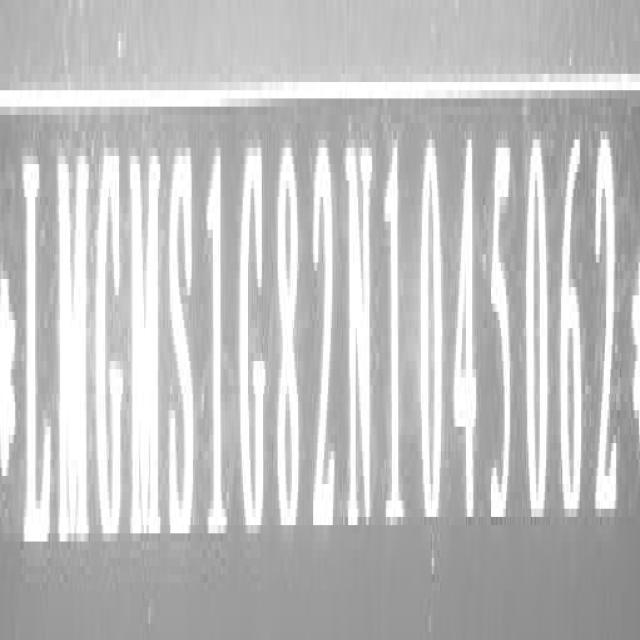0: (415, 124, 446, 546), (521, 130, 551, 538)
1: (376, 111, 406, 544), (201, 120, 230, 540)
2: (595, 85, 624, 529), (310, 116, 339, 542)
4: (452, 127, 481, 530)
5: (487, 110, 514, 533)
6: (556, 133, 588, 542)
8: (273, 114, 304, 544)
G: (92, 110, 128, 534), (236, 120, 270, 559)
L: (18, 130, 54, 555)
M: (52, 150, 92, 534), (128, 137, 164, 550)
N: (344, 133, 376, 534)
S: (168, 109, 203, 560)
